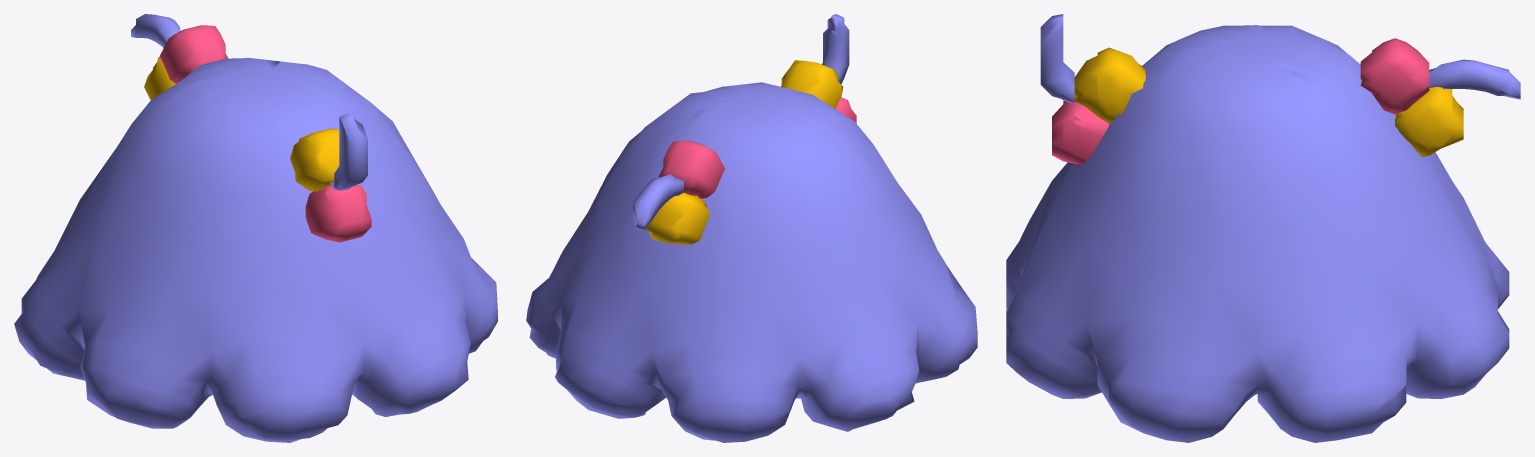
The model's file is producer.glb.
3 renders of one model, left to right at view 1: azimuth 30°, elevation 25°; view 2: azimuth 150°, elevation 25°; view 3: azimuth 270°, elevation 25°, orthographic. The views are drawn at different scales.
Parts seen in each view (by area): view 1: Producer; view 2: Producer; view 3: Producer.
Part boxes in pixels (x1=…): Producer: x1=14, y1=14, x2=497, y2=442; Producer: x1=526, y1=14, x2=977, y2=442; Producer: x1=1006, y1=14, x2=1520, y2=442.
Size of the model in its own units: 2.2 by 1.67 by 2.25.
